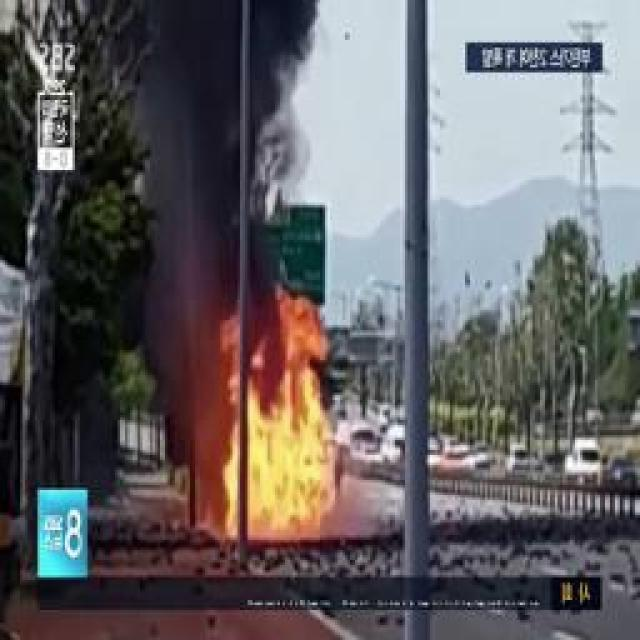Fire: (235, 378, 335, 549)
